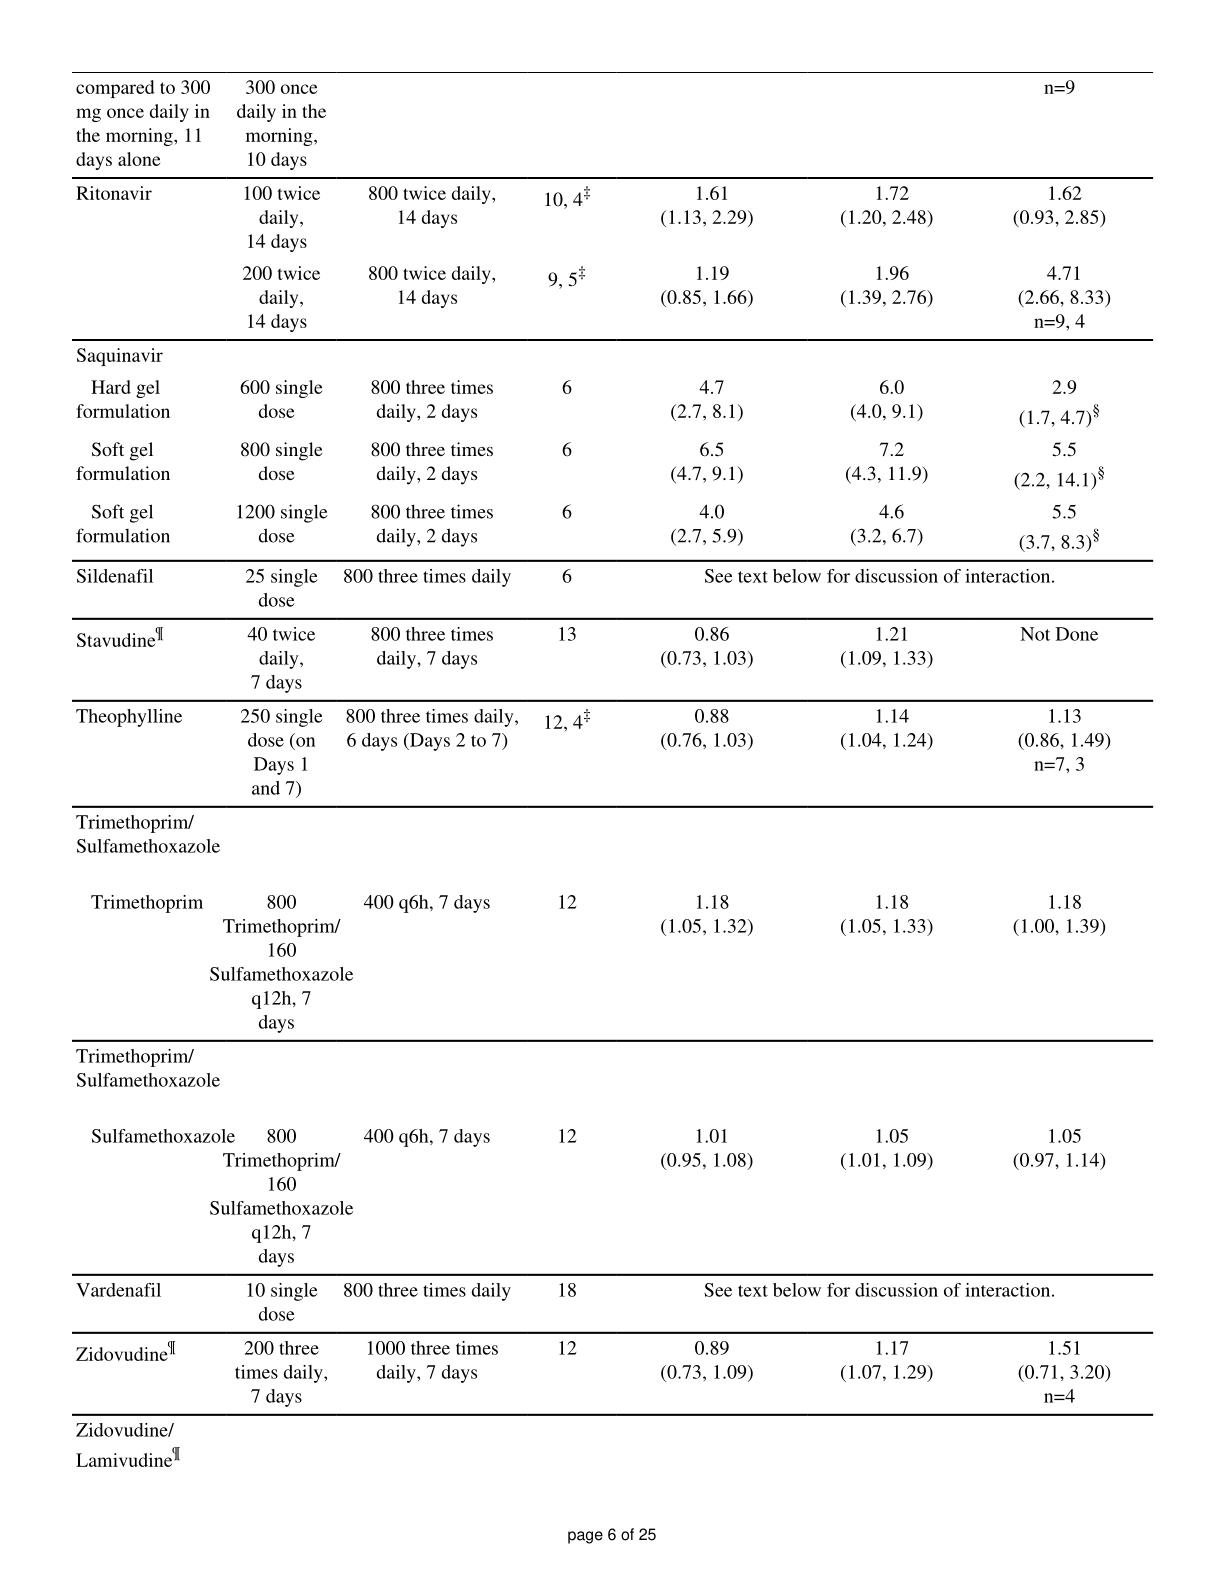partial_lined: (68, 69, 1153, 1477)
